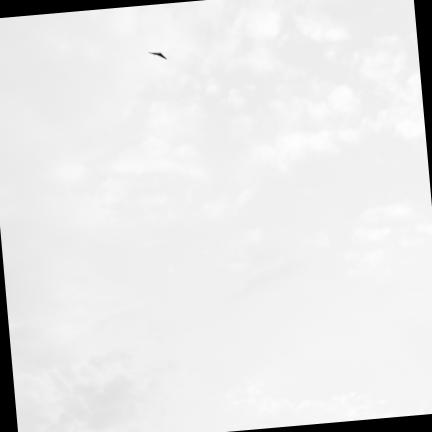Shahed: (150, 52, 167, 59)
